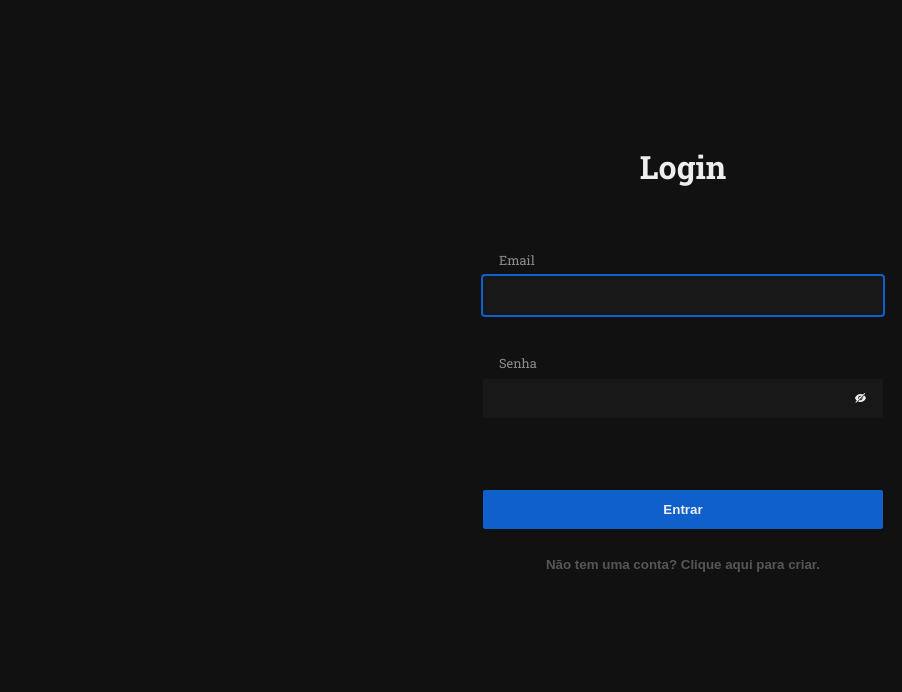
Test case: Authentication › Create user › Catch a response error for duplicated user
The width and height of the screenshot is (902, 692).
Step 1. Click the button with test id "form" → [683, 565], box left=483, top=545, right=883, bottom=584
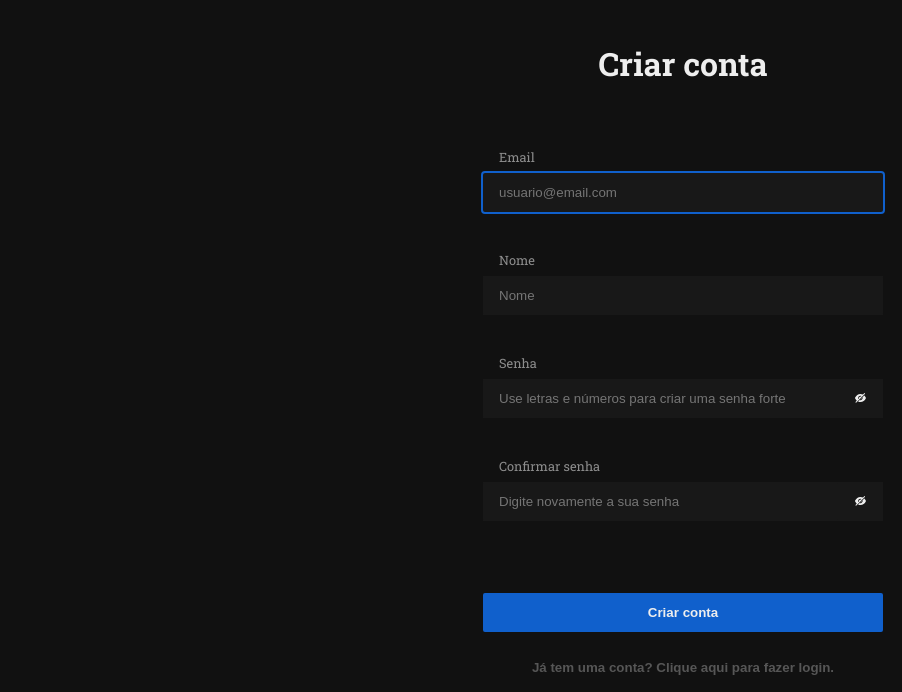
Step 2. Type "user01@email.com" into the field with test id "email-input" → [683, 193], box left=483, top=173, right=883, bottom=212
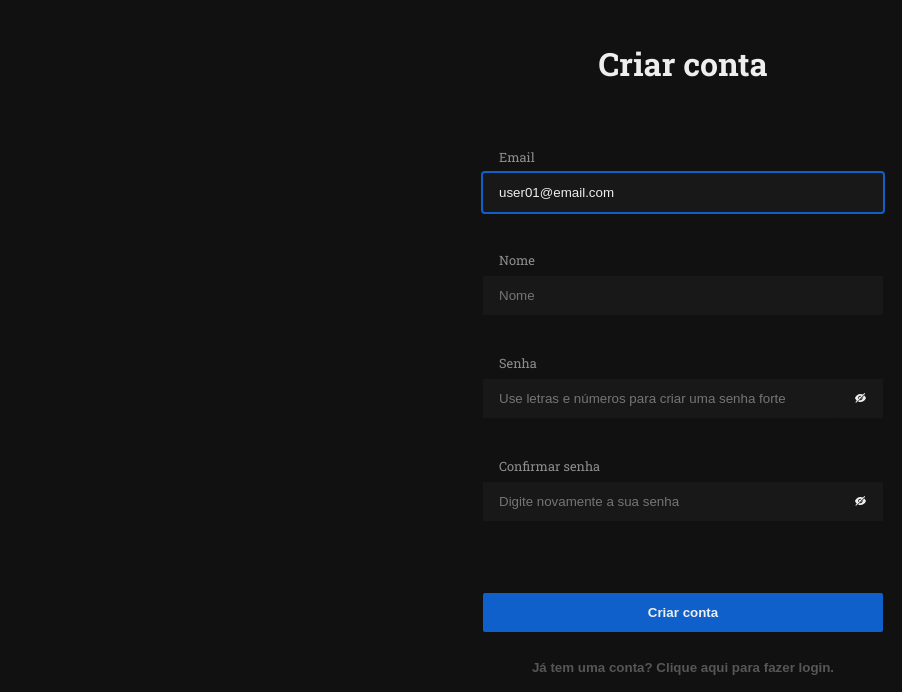
Step 3. Type "user01" into the field with test id "name-input" → [683, 296], box left=483, top=276, right=883, bottom=315
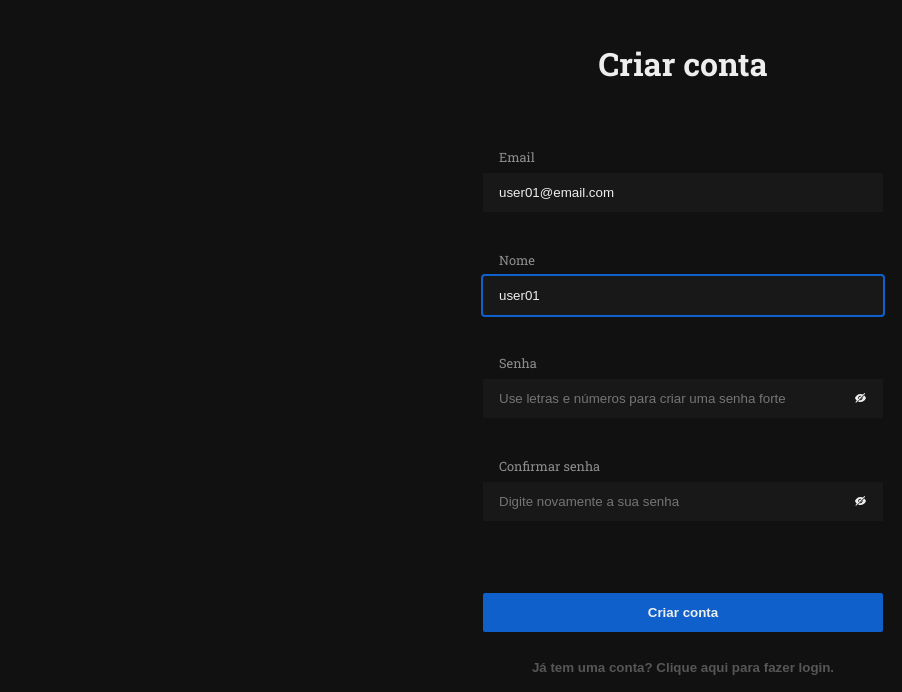
Step 4. Type "Password123" into the password field with test id "password-input" → [661, 399], box left=483, top=379, right=838, bottom=418
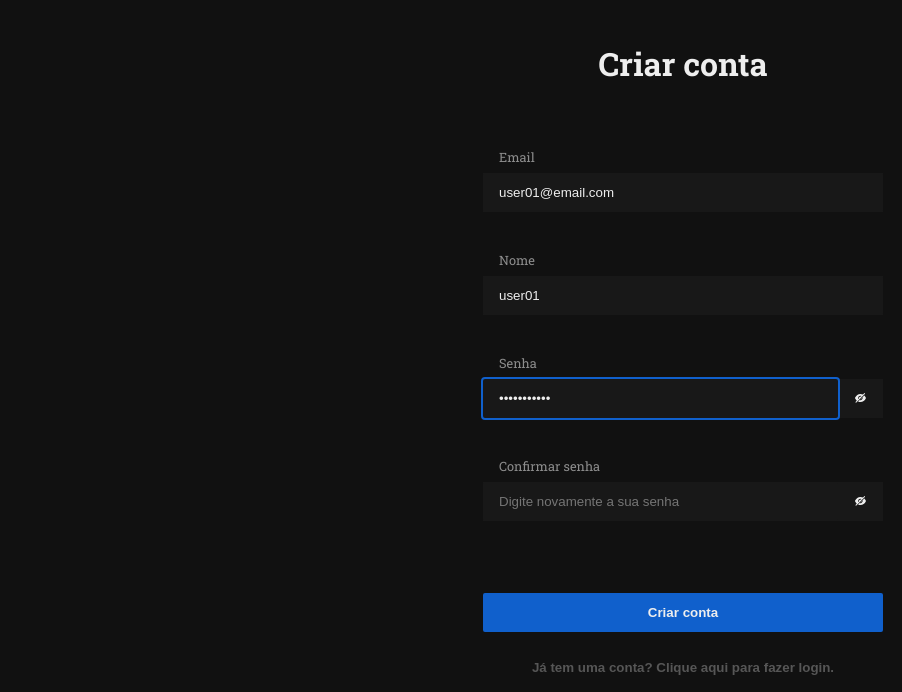
Step 5. Type "Password123" into the password field with test id "passwordCheck-input" → [661, 502], box left=483, top=482, right=838, bottom=521
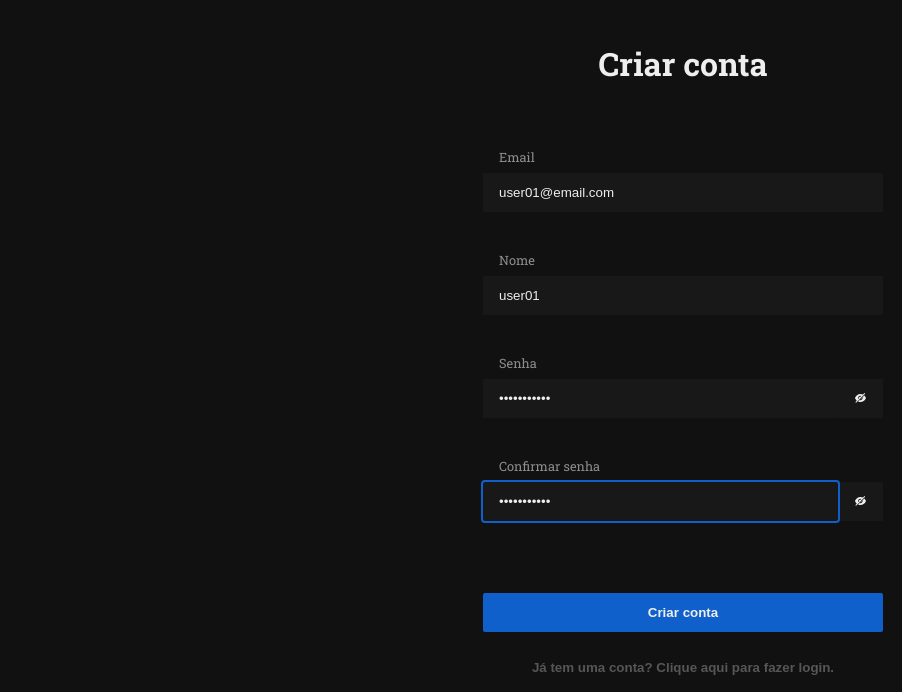
Step 6. Click the button with test id "submit" → [683, 613], box left=483, top=593, right=883, bottom=632
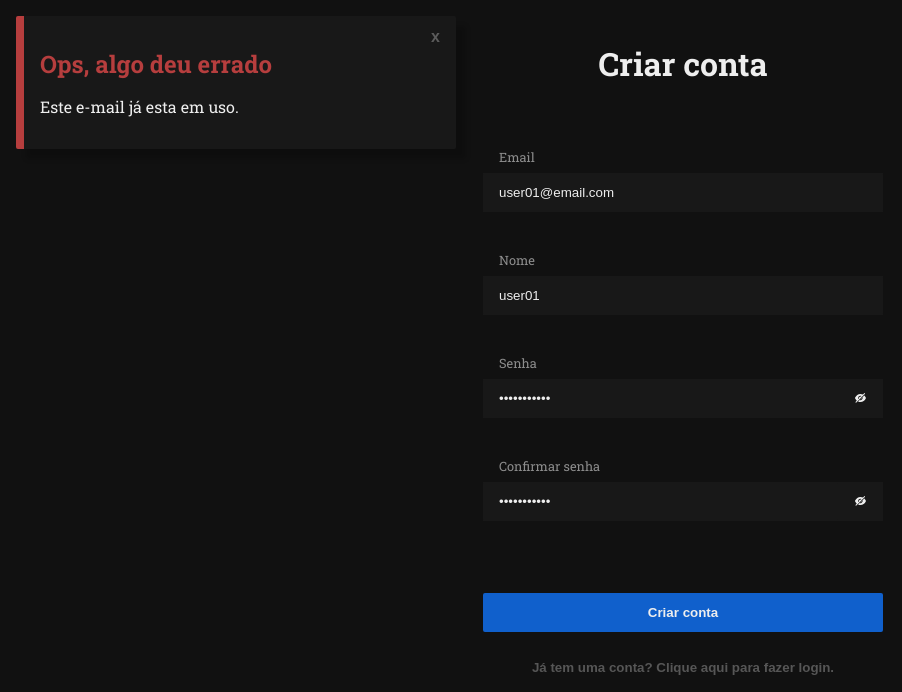
Expected: the heading with class "title" reads "Ops, algo deu errado", left=40, top=48, right=272, bottom=80
